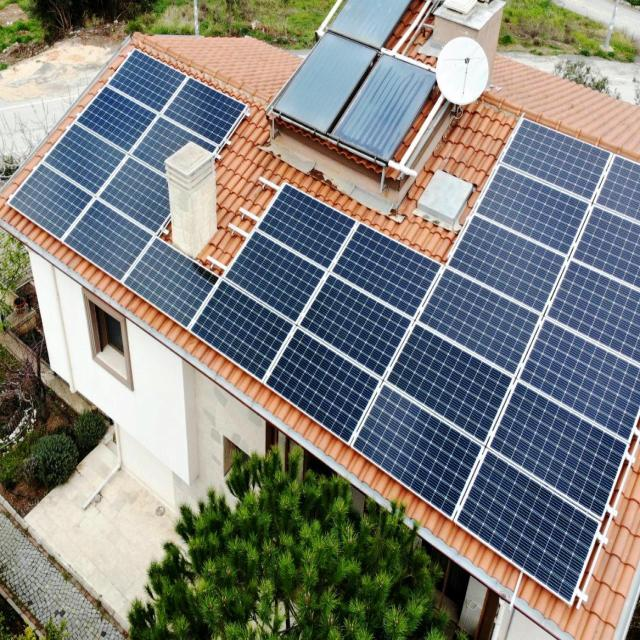no faulty: (458, 448, 601, 611), (350, 380, 480, 522), (522, 309, 639, 452), (266, 326, 386, 448), (429, 270, 554, 382), (440, 214, 578, 310), (464, 170, 612, 258), (298, 276, 418, 374), (490, 117, 628, 200), (191, 272, 291, 384), (221, 225, 330, 326), (124, 235, 220, 337), (255, 181, 356, 269), (67, 195, 157, 292), (339, 224, 439, 306), (6, 164, 87, 245), (35, 126, 132, 192), (171, 77, 250, 152), (106, 52, 195, 110), (74, 82, 162, 140)
